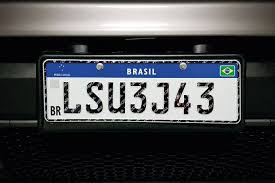car_plate: (39, 57, 243, 124)
